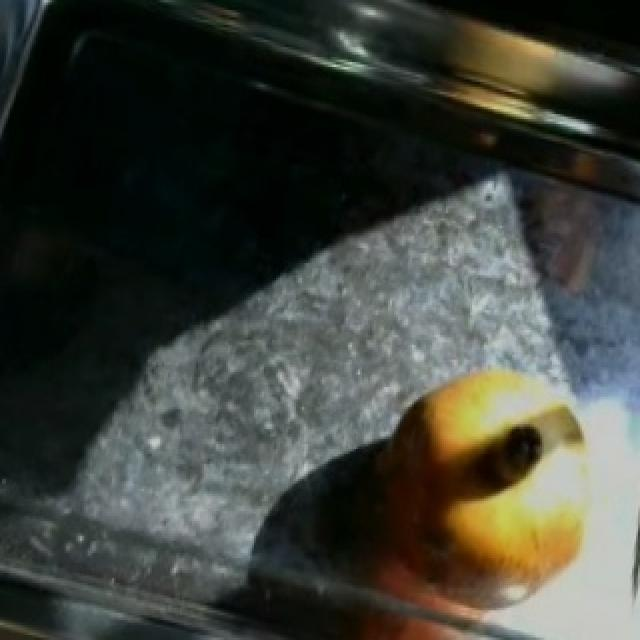fruit: (348, 340, 622, 628)
